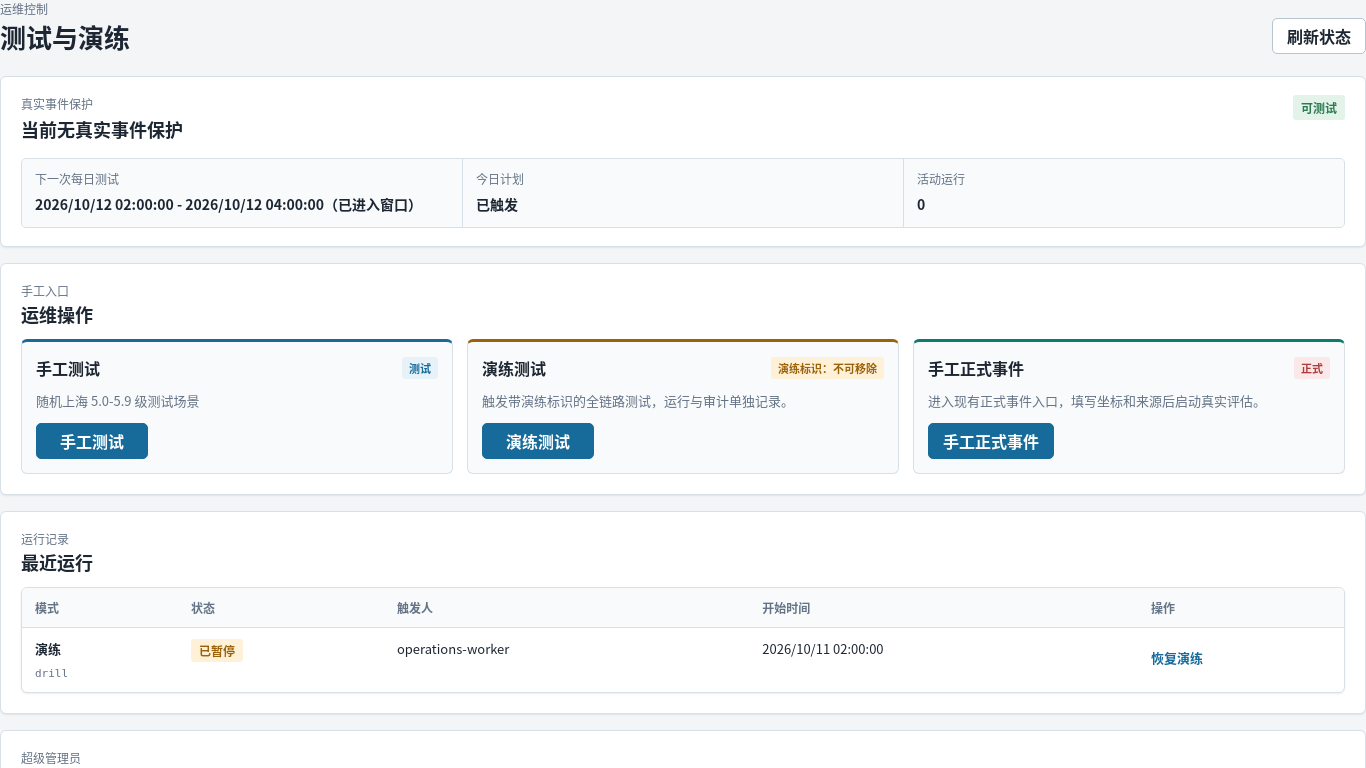
Test: superadmin can resume a paused drill run from the run table
This screenshot has width=1366, height=768.
Click the button "恢复演练".
click(1177, 657)  # box left=1151, top=639, right=1203, bottom=675
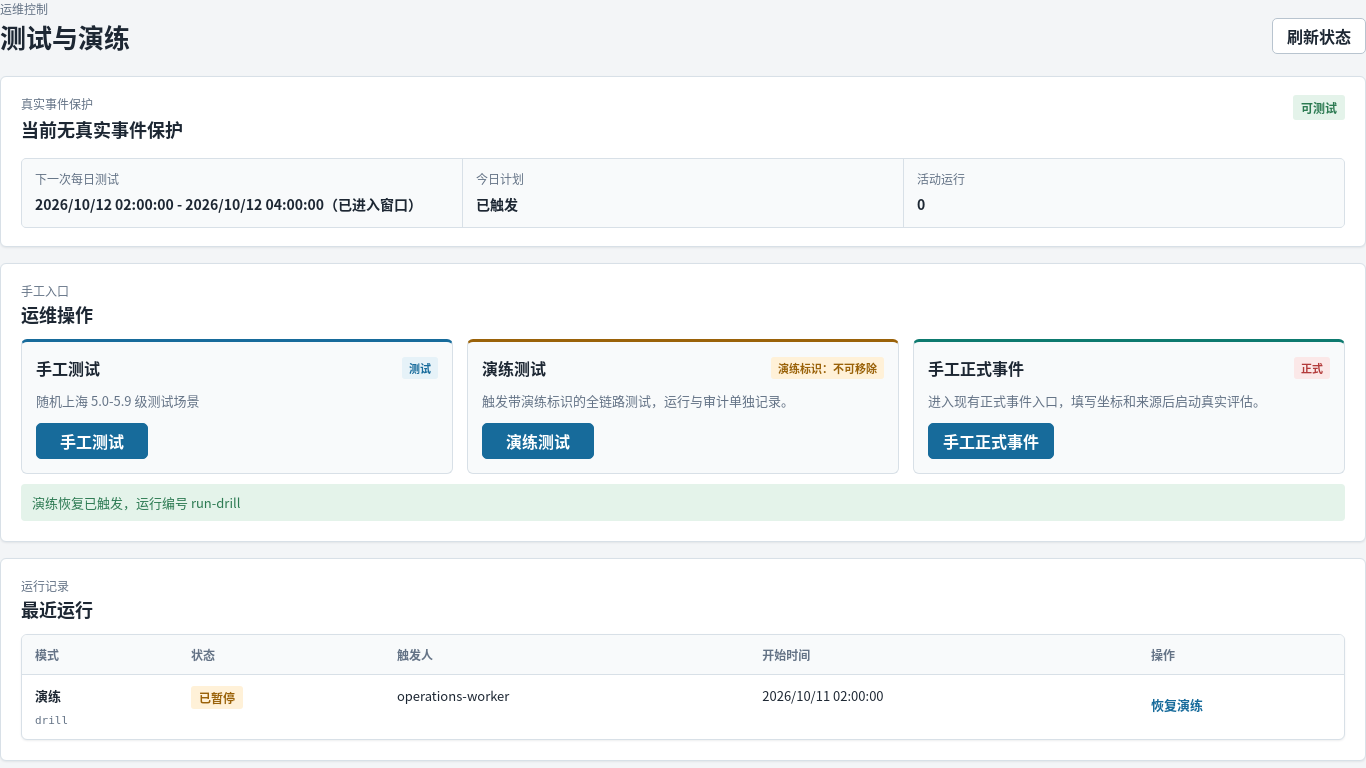
Now the text "演练恢复已触发，运行编号 run-drill" is shown, box left=21, top=484, right=1345, bottom=521
